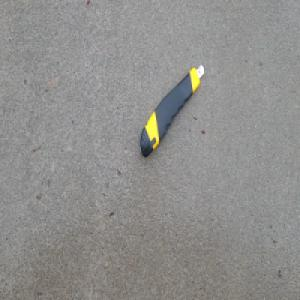Cutter: (139, 65, 204, 161)
